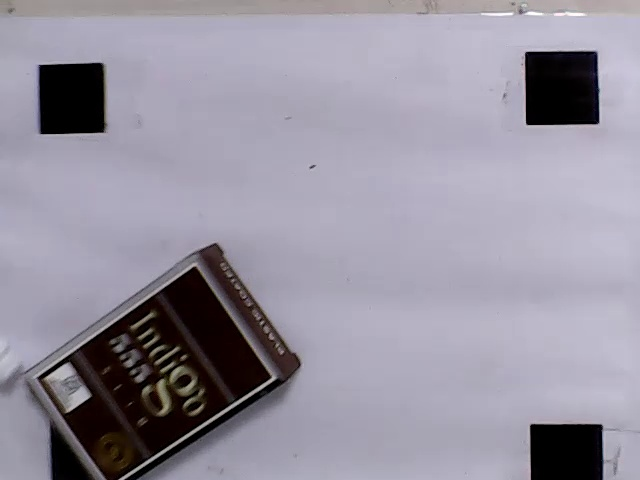BEX: (35, 266, 275, 480)
